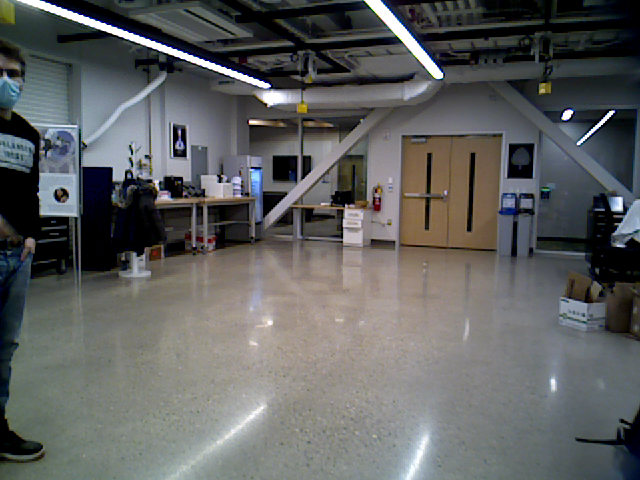painting1: (504, 142, 536, 181)
painting2: (167, 122, 189, 159)
